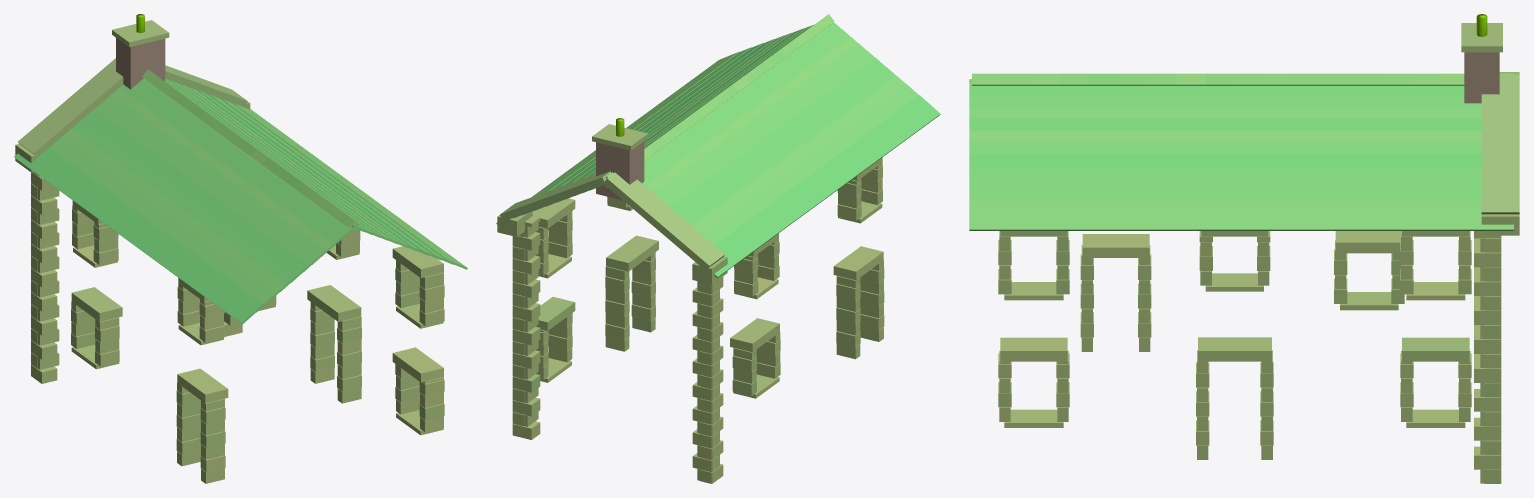
Rendered from SM_Bld_087_Stone.glb.
3 views of the same model, side by side, from view 1: azimuth 30°, elevation 25°; view 2: azimuth 150°, elevation 25°; view 3: azimuth 270°, elevation 25° (orthographic). The views are drawn at different scales.
Parts seen in each view (by area): view 1: SM_Bld_087_Stone; view 2: SM_Bld_087_Stone; view 3: SM_Bld_087_Stone.
Part boxes in pixels (x1=…): SM_Bld_087_Stone: x1=14, y1=14, x2=467, y2=483; SM_Bld_087_Stone: x1=496, y1=14, x2=940, y2=483; SM_Bld_087_Stone: x1=969, y1=14, x2=1519, y2=483.
Size of the model in its own units: 5.89 by 8.47 by 10.36.
